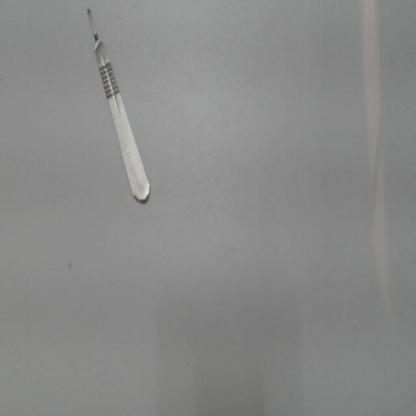No.3 BP Handle: (68, 2, 164, 218)
